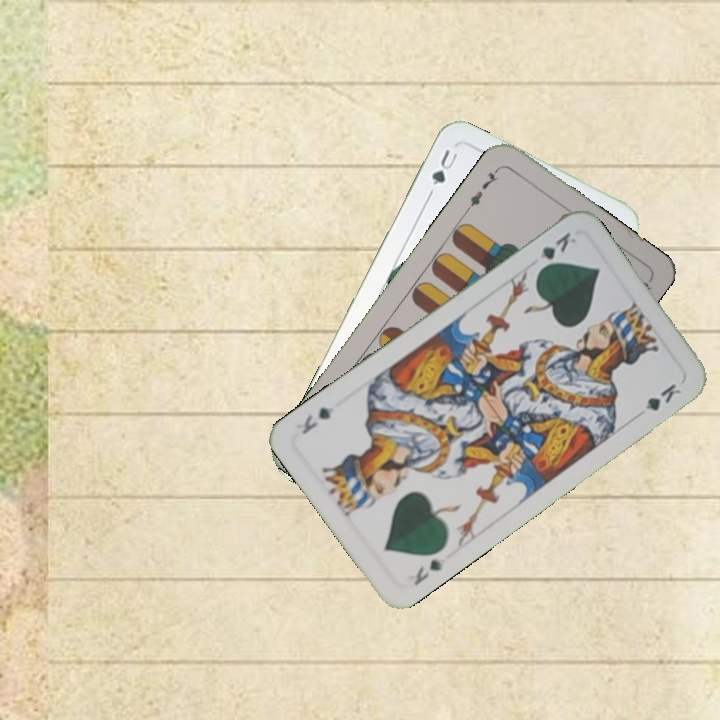E7: (462, 163, 503, 214)
GK: (533, 227, 579, 275), (409, 555, 446, 589)
GU: (427, 145, 460, 188)
